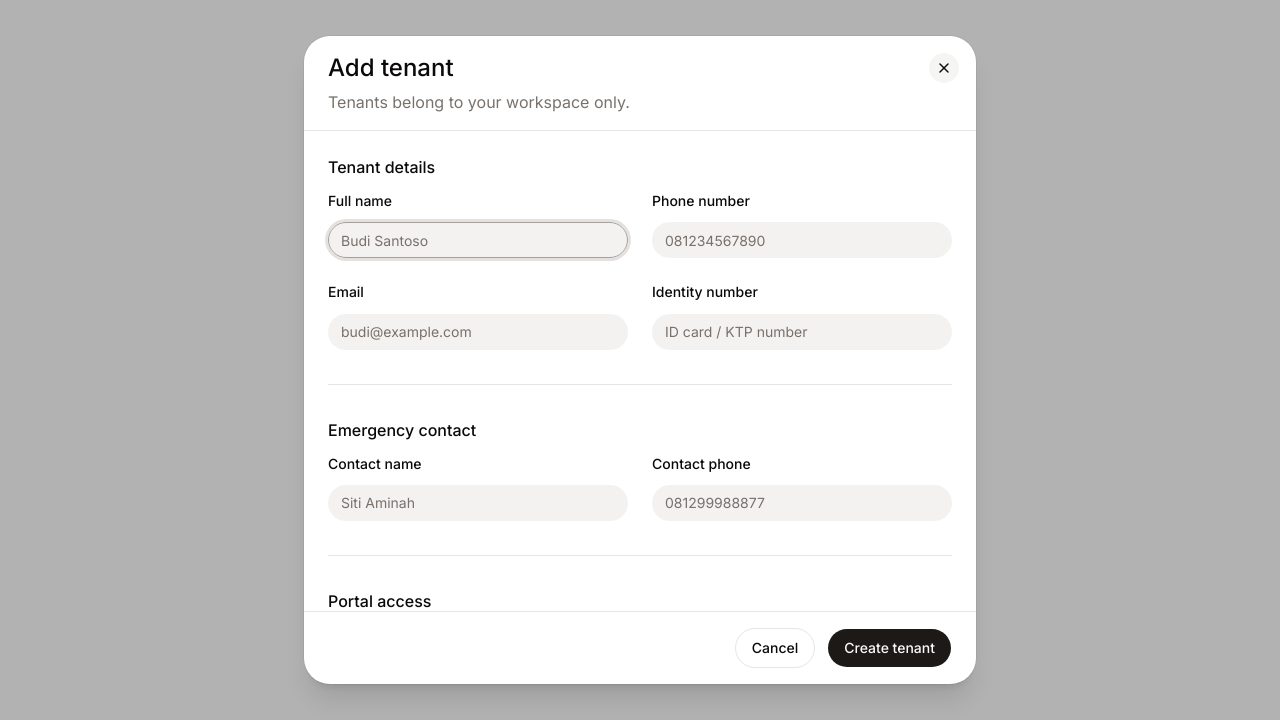
Test: TenantFormDialog (create) › blocks submit and shows validation errors when required fields are empty
Click the button "Create tenant": (890, 648) [827,628,952,668]
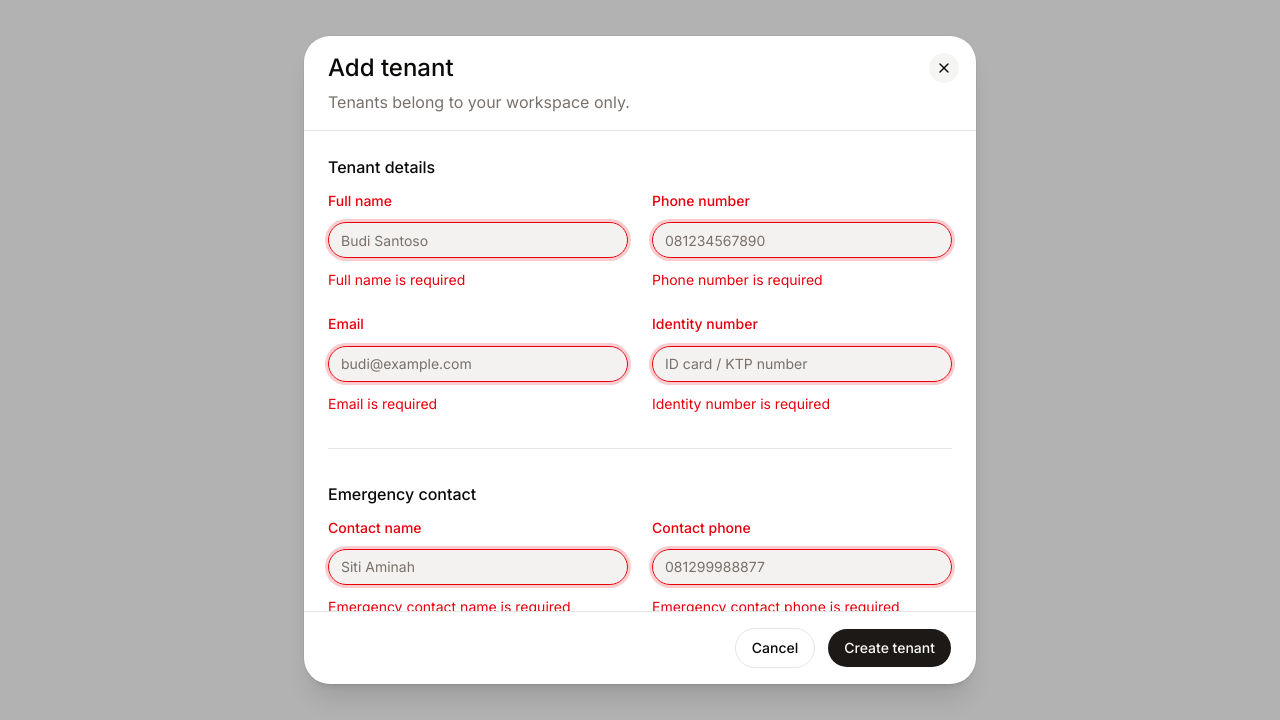
Now the text "Full name is required" is shown, box [328,271,465,288]
Now the text "Email is required" is shown, box [328,394,437,412]
